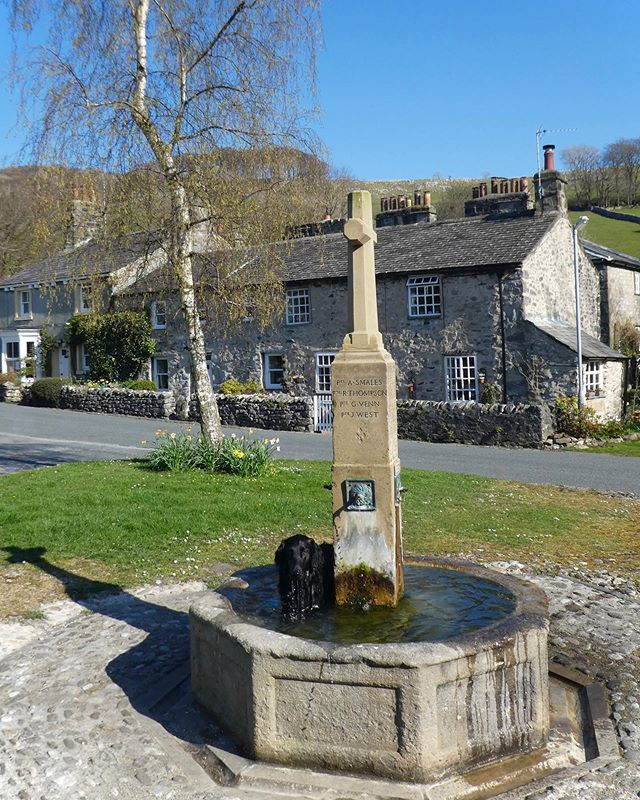animal: (262, 533, 340, 622)
building: (132, 232, 616, 428), (6, 227, 195, 396)
fountain: (206, 204, 545, 757)
grass: (15, 474, 622, 578)
sky: (1, 1, 616, 155)
street: (27, 400, 631, 499)
tree: (67, 1, 293, 468)
